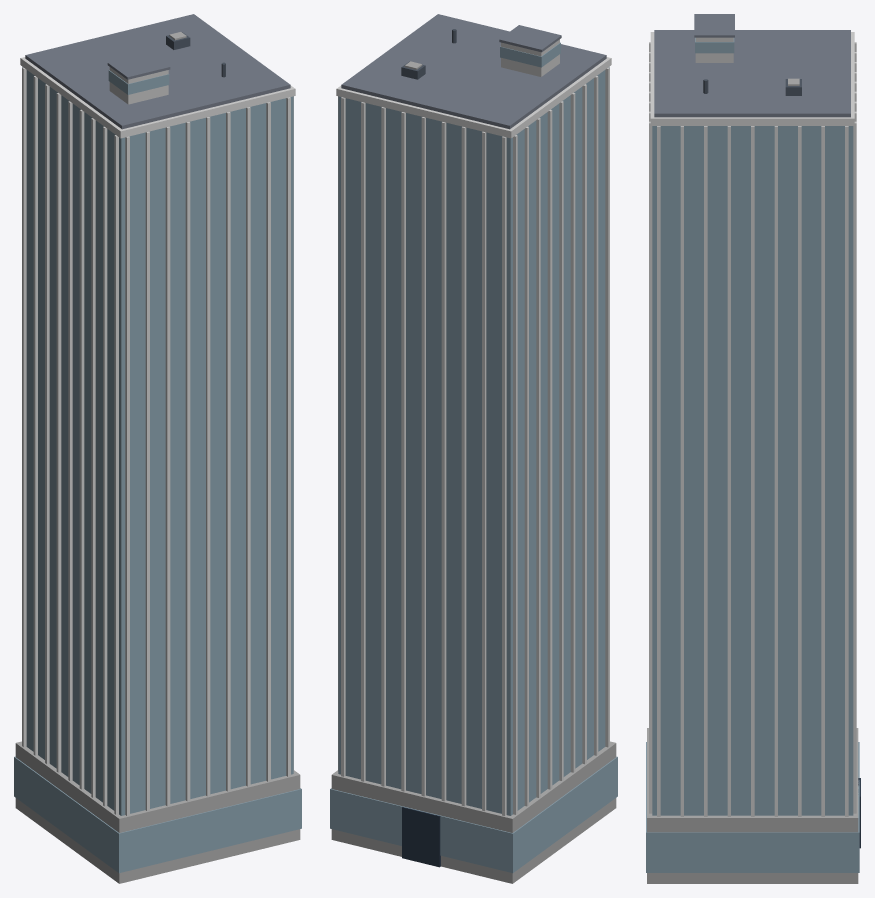
File: building_large_curtain.glb
3 renders of one model, left to right at view 1: azimuth 30°, elevation 25°; view 2: azimuth 150°, elevation 25°; view 3: azimuth 270°, elevation 25°, orthographic.
Parts seen in each view (by area): view 1: building_large_curtain; view 2: building_large_curtain; view 3: building_large_curtain.
Part boxes in pixels (box(x1,y1,x2,y2)): building_large_curtain: box(14, 14, 301, 883); building_large_curtain: box(330, 14, 617, 883); building_large_curtain: box(646, 14, 860, 883).
Size of the model in its own units: 15.3 by 62.49 by 15.3.
